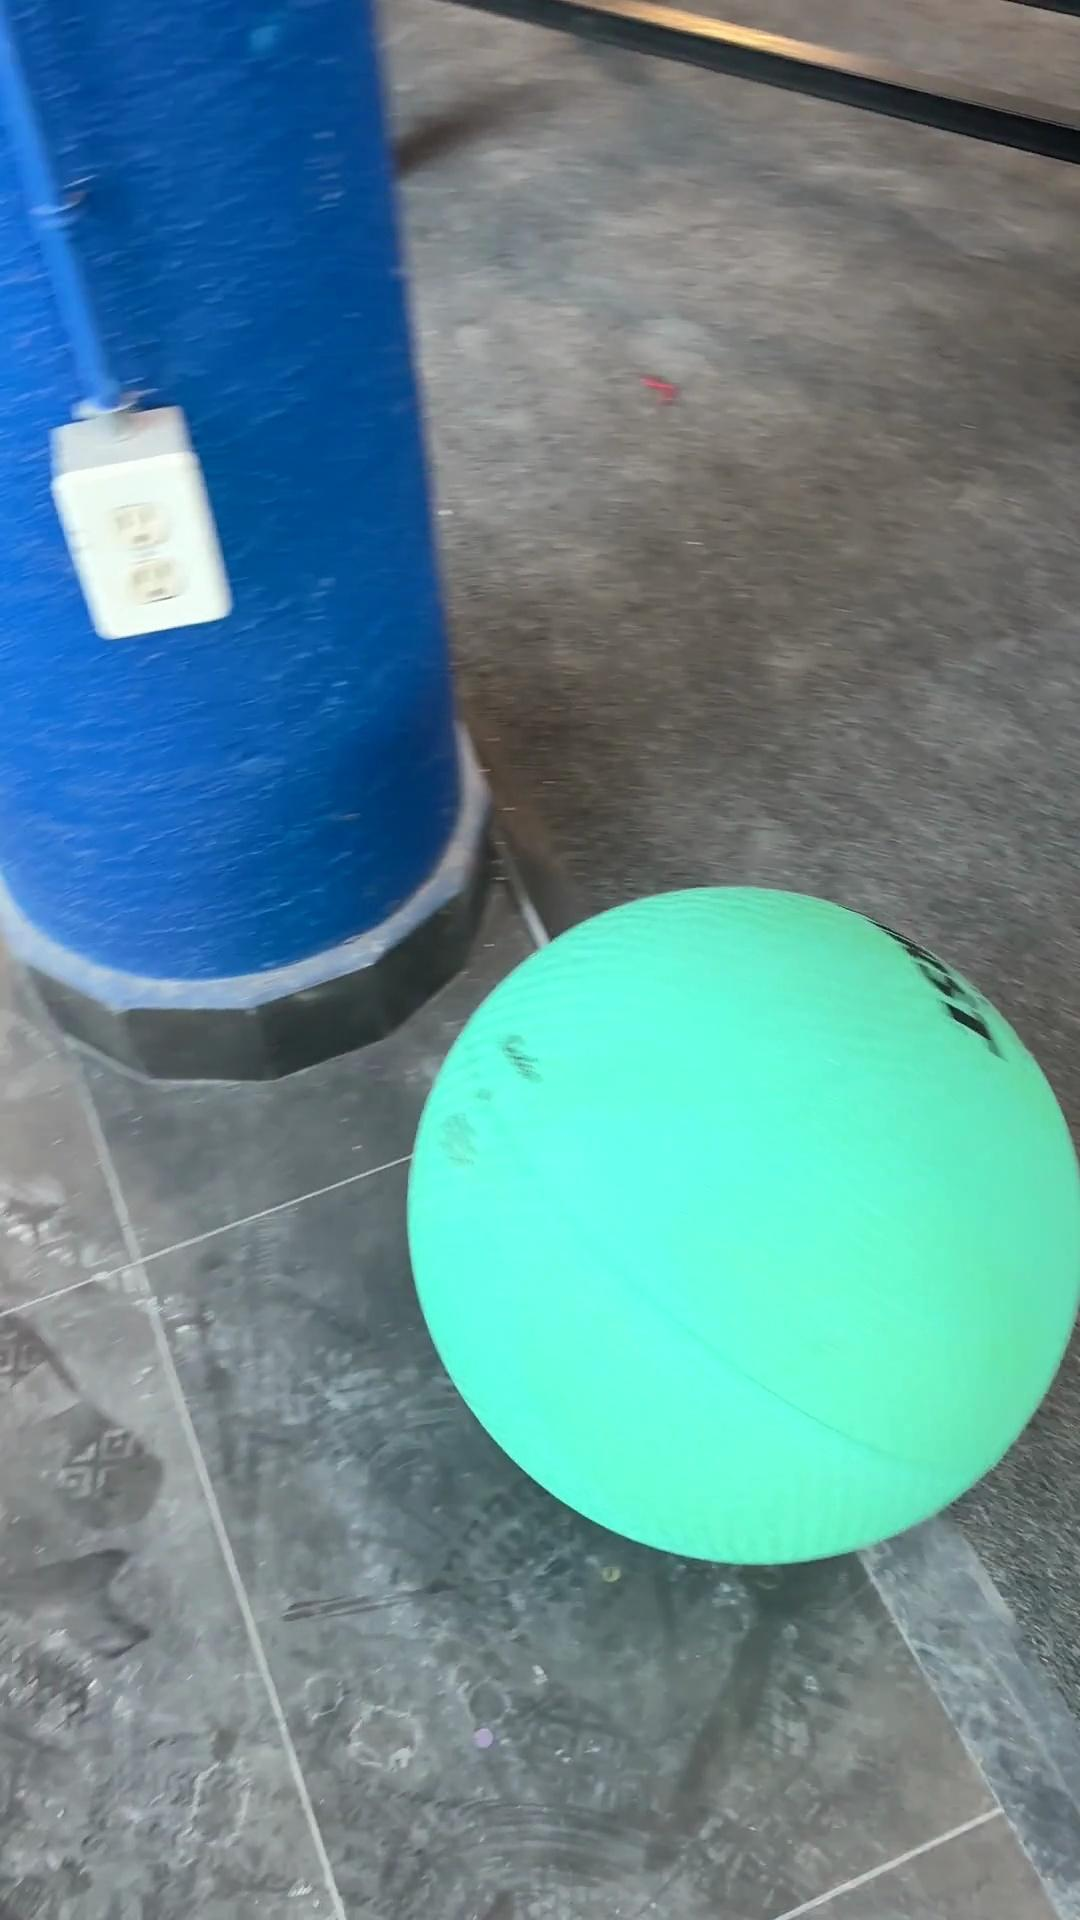ALGAE: (404, 880, 1077, 1568)
